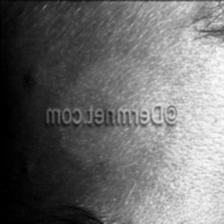Potentially Malignant Skin Tumors: (90, 96, 117, 154)
